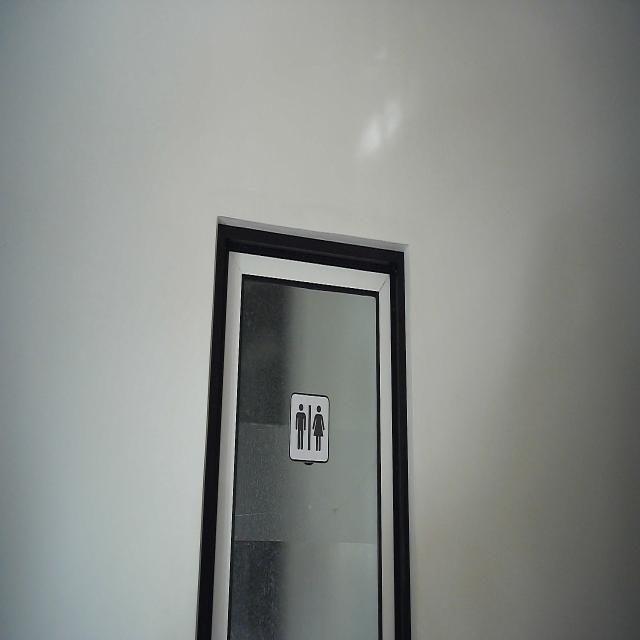restroom: (288, 390, 330, 465)
